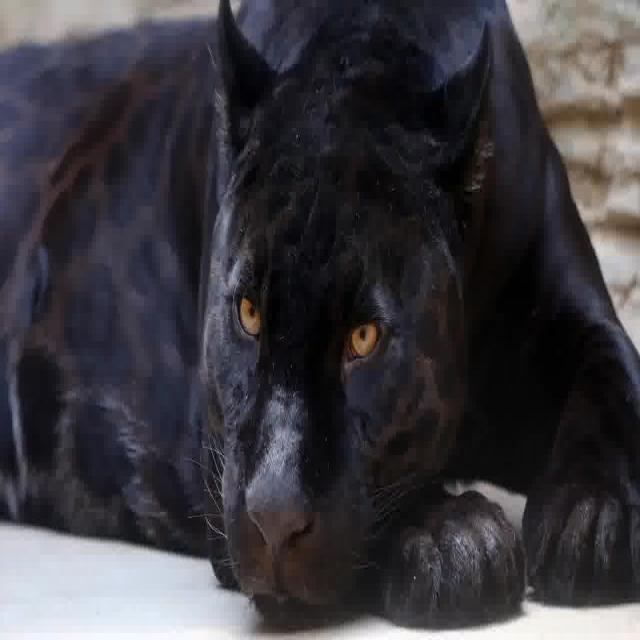Jaguar: (0, 0, 586, 602)
